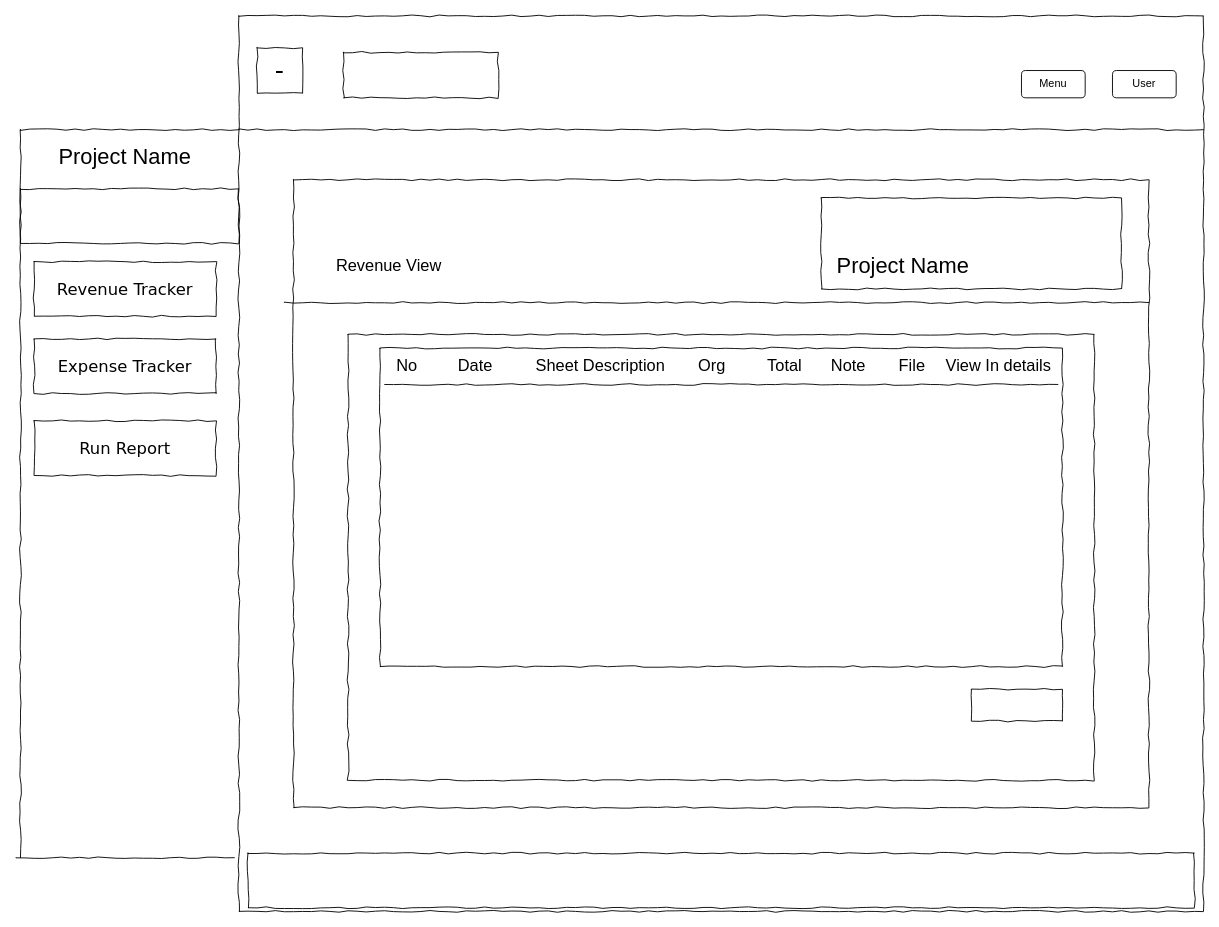
Some shapes in this 1219 by 927 pixel diagram are drawn without their labels. The shapes that lost their labels are listed below. From the top down, each one's centre as x and y in pixels, then its label:
(420,74): LOGO
(129,215): Financial Manager
(1016,704): Add New
